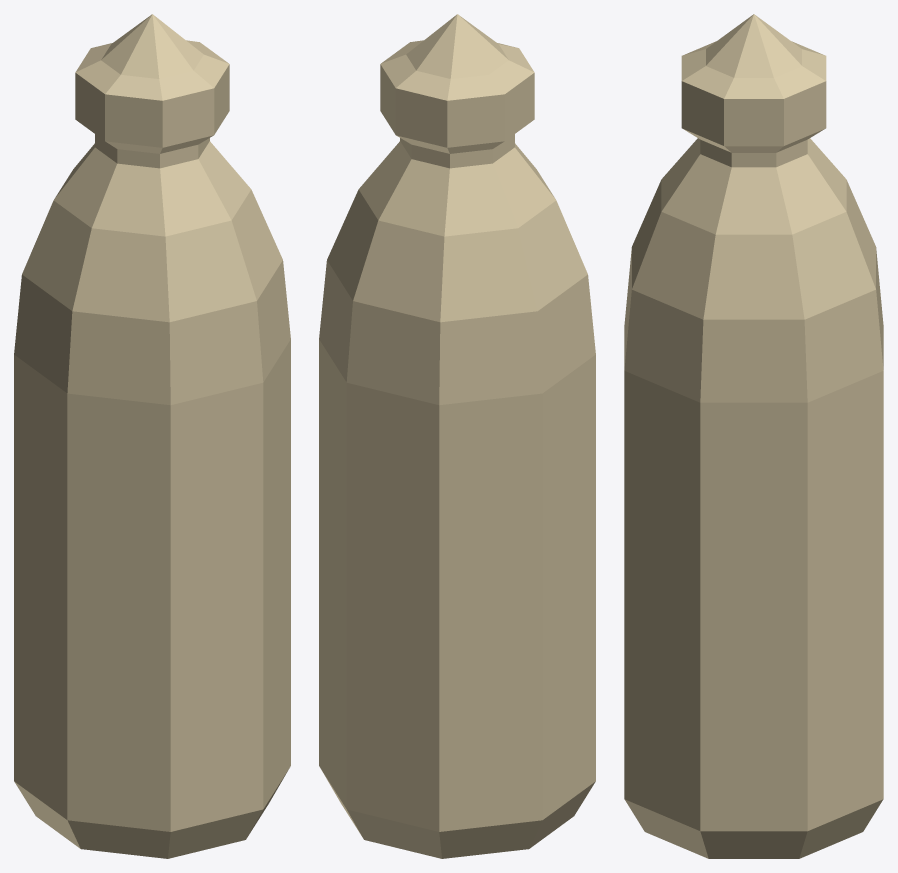
File: SM_Cook_SauceBottle_Mayo_01.glb
The picture shows the model from 3 angles, left to right: view 1: azimuth 30°, elevation 25°; view 2: azimuth 150°, elevation 25°; view 3: azimuth 270°, elevation 25°; orthographic projection.
Visible parts, largest first — view 1: SM_Cook_SauceBottle_Mayo_01; view 2: SM_Cook_SauceBottle_Mayo_01; view 3: SM_Cook_SauceBottle_Mayo_01.
Boxes of the visible parts, x1=… form: SM_Cook_SauceBottle_Mayo_01: x1=14, y1=14, x2=290, y2=858; SM_Cook_SauceBottle_Mayo_01: x1=319, y1=14, x2=595, y2=858; SM_Cook_SauceBottle_Mayo_01: x1=624, y1=14, x2=883, y2=858.
Size of the model in its own units: 0.0647 by 0.22 by 0.0647.
Materials: 1 (1 with a texture image).
